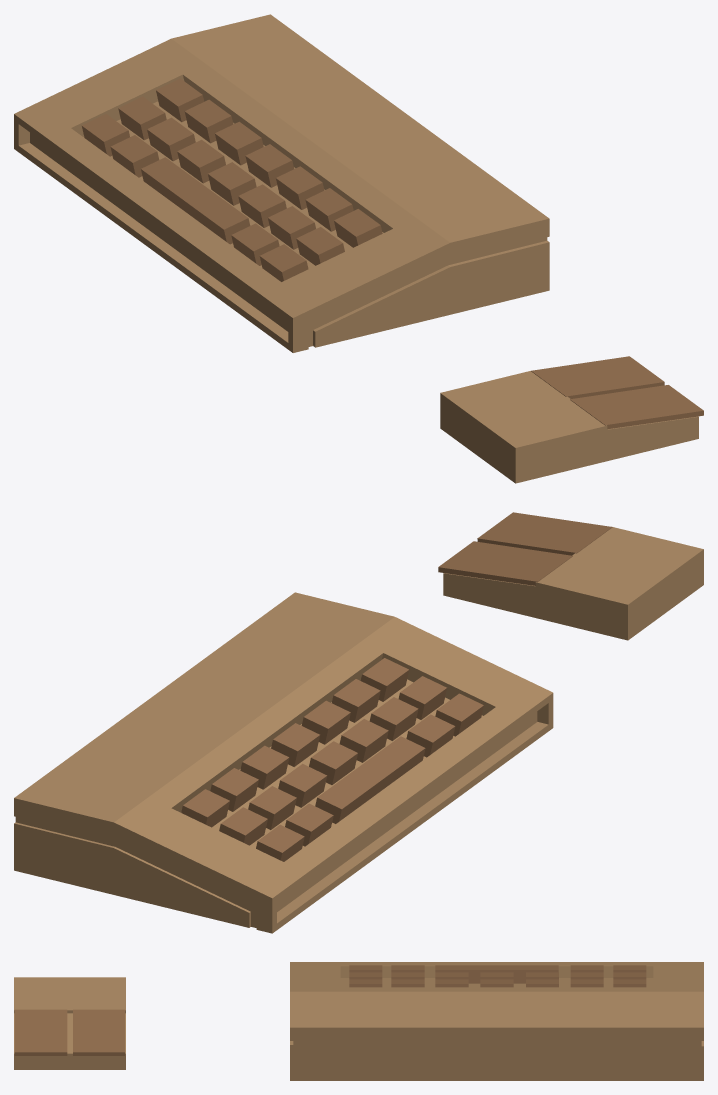
File: Keyboard&Mouse_tier1.fbx
The picture shows the model from 3 angles, top to bottom: view 1: azimuth 30°, elevation 25°; view 2: azimuth 150°, elevation 25°; view 3: azimuth 270°, elevation 25°; orthographic projection. The views are drawn at different scales.
Visible parts, largest first — view 1: Cube, Cube.023, Cube.024; view 2: Cube, Cube.023, Cube.024; view 3: Cube, Cube.024, Cube.023.
Part boxes in pixels (x1,y1,x2,y2): Cube: [14, 14, 549, 352]; Cube.023: [82, 78, 382, 281]; Cube.024: [440, 356, 703, 483]; Cube: [14, 592, 553, 933]; Cube.023: [181, 658, 483, 861]; Cube.024: [438, 512, 703, 640]; Cube: [290, 962, 703, 1080]; Cube.024: [14, 977, 125, 1069]; Cube.023: [349, 965, 646, 987].
Size of the model in its own units: 0.3689 by 0.1033 by 1.16.
